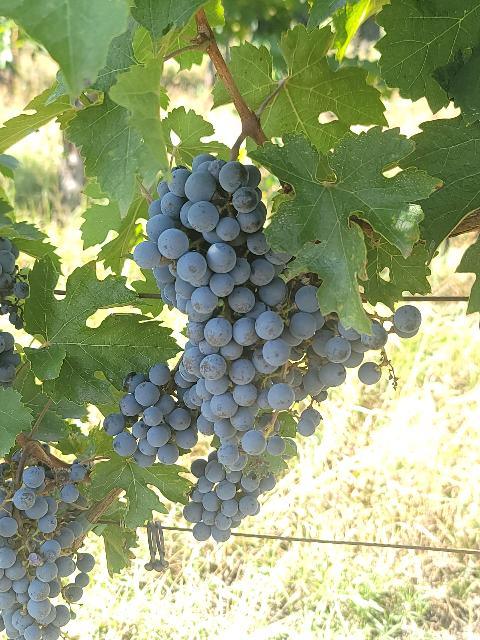grapes: (134, 154, 291, 394), (0, 485, 94, 640), (104, 364, 198, 468), (182, 458, 276, 542)
